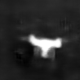plane: (21, 32, 69, 61)
